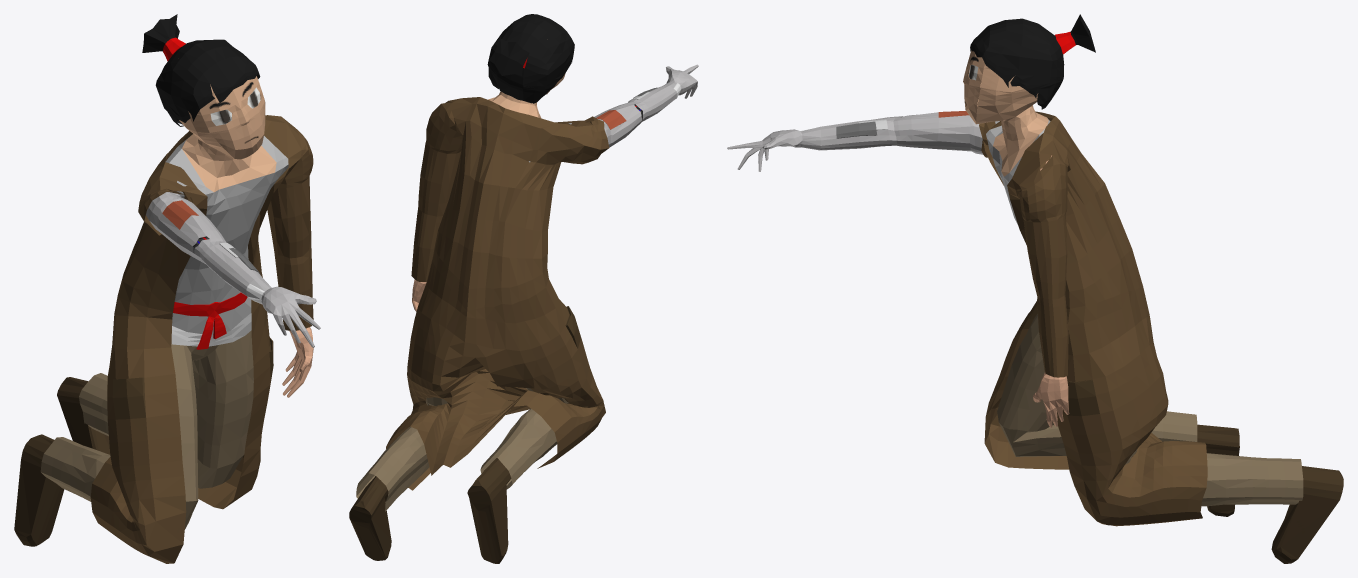
Rendered from One_Die_000035.obj.
3 views of the same model, side by side, from view 1: azimuth 30°, elevation 25°; view 2: azimuth 150°, elevation 25°; view 3: azimuth 270°, elevation 25° (orthographic). The views are drawn at different scales.
Parts seen in each view (by area): view 1: Hair_Cube.004; view 2: Hair_Cube.004; view 3: Hair_Cube.004.
Boxes of the visible parts, bbox=[...] form: Hair_Cube.004: bbox=[14, 14, 320, 563]; Hair_Cube.004: bbox=[349, 14, 698, 563]; Hair_Cube.004: bbox=[727, 14, 1343, 563].
Size of the model in its own units: 1.14 by 3.02 by 3.21.
